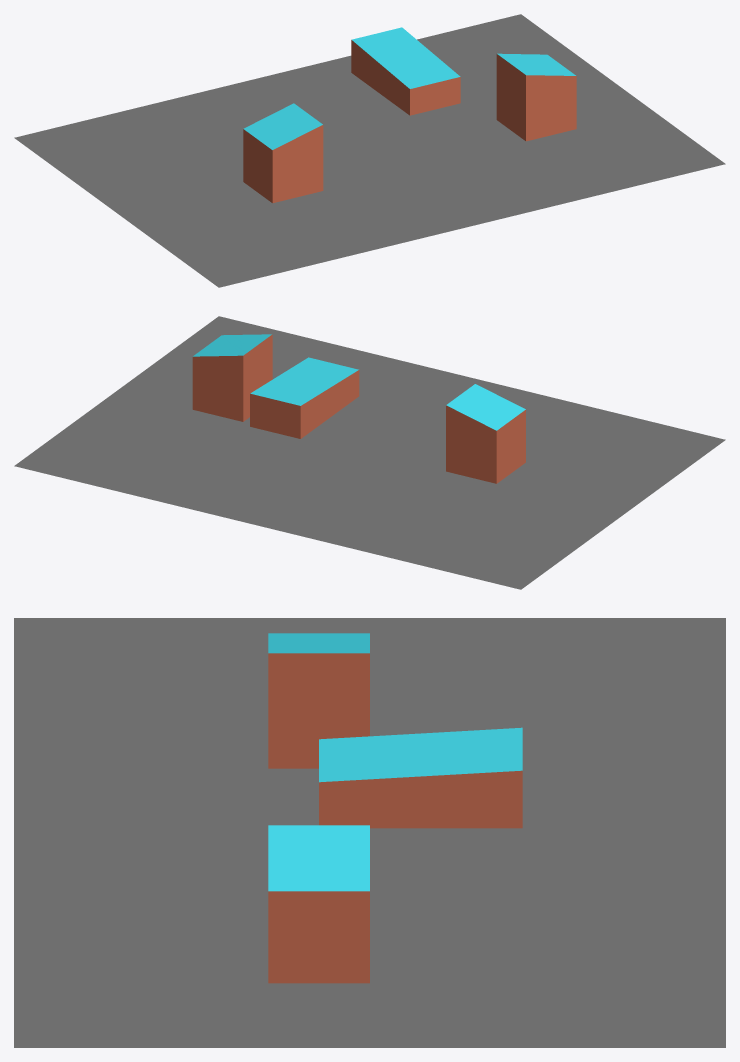
The model's file is reference-r2.glb.
3 renders of one model, top to bottom at view 1: azimuth 30°, elevation 25°; view 2: azimuth 150°, elevation 25°; view 3: azimuth 270°, elevation 25°, orthographic. The views are drawn at different scales.
Parts seen in each view (by area): view 1: Floor, Shared prop, Hero prop, Mirrored prop; view 2: Floor, Shared prop, Hero prop, Mirrored prop; view 3: Floor, Hero prop, Mirrored prop, Shared prop.
Part boxes in pixels (box(x1,y1,x2,y2)): Floor: box(14, 14, 725, 287); Shared prop: box(243, 103, 323, 203); Hero prop: box(351, 27, 460, 115); Mirrored prop: box(496, 53, 576, 141); Floor: box(14, 316, 725, 589); Shared prop: box(446, 384, 525, 483); Hero prop: box(250, 357, 359, 438); Mirrored prop: box(192, 334, 272, 421); Floor: box(14, 618, 725, 1047); Hero prop: box(319, 727, 522, 828); Mirrored prop: box(268, 825, 369, 983); Shared prop: box(268, 633, 369, 768).
Size of the model in its own units: 10 by 1.38 by 7.
